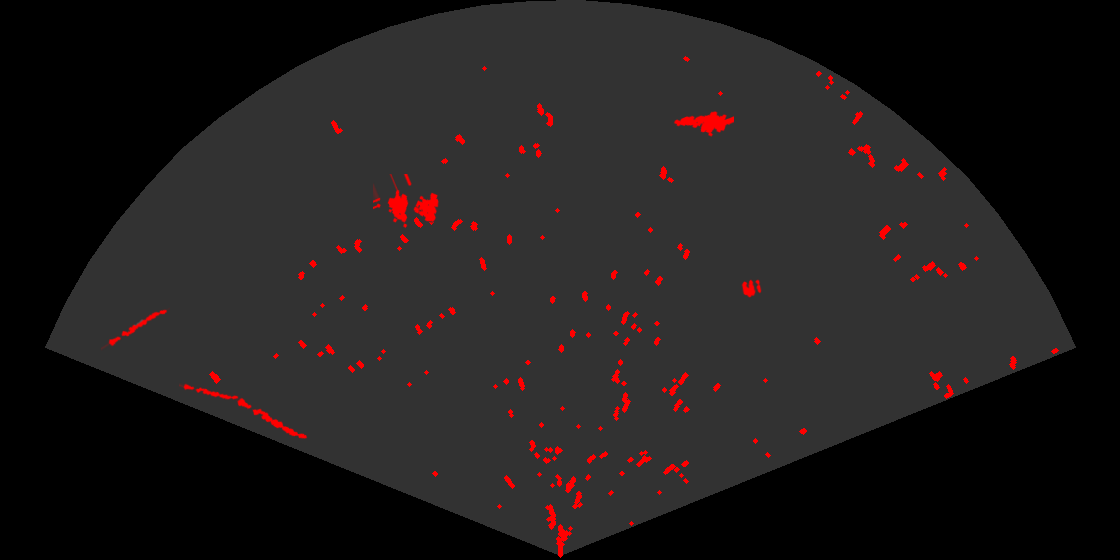ball: (740, 278, 763, 299)
cage: (373, 174, 440, 230)
chain: (228, 393, 309, 440), (101, 306, 170, 351), (179, 382, 239, 401)
frogman: (672, 110, 734, 138)
